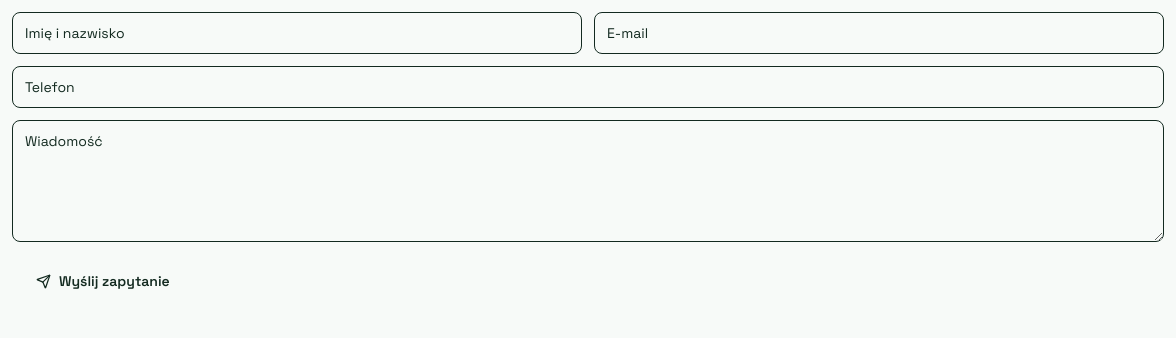
Test: błędy › odpowiedź bez treści degraduje do komunikatu ogólnego
Step 1. Type "Anna Kowalska" into the field labelled "Imię i nazwisko" → (297, 33), box [12,12,582,54]
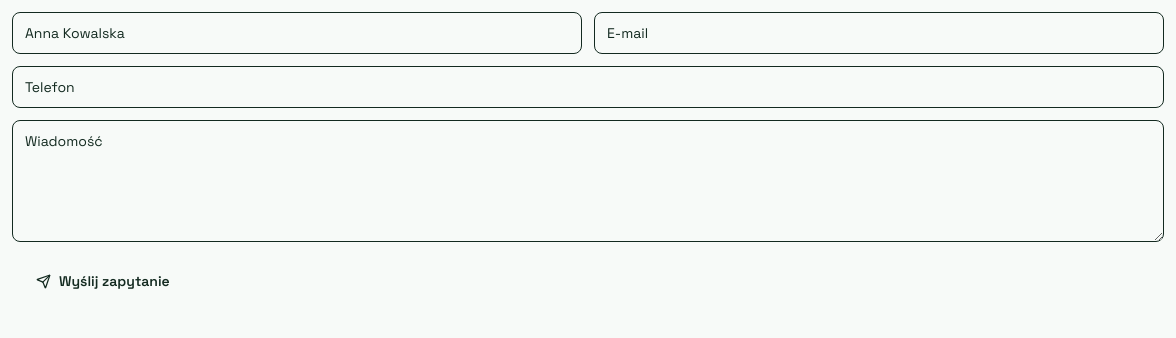
Step 2. Type "anna@example.com" into the field labelled "E-mail" → (879, 33), box [594,12,1164,54]
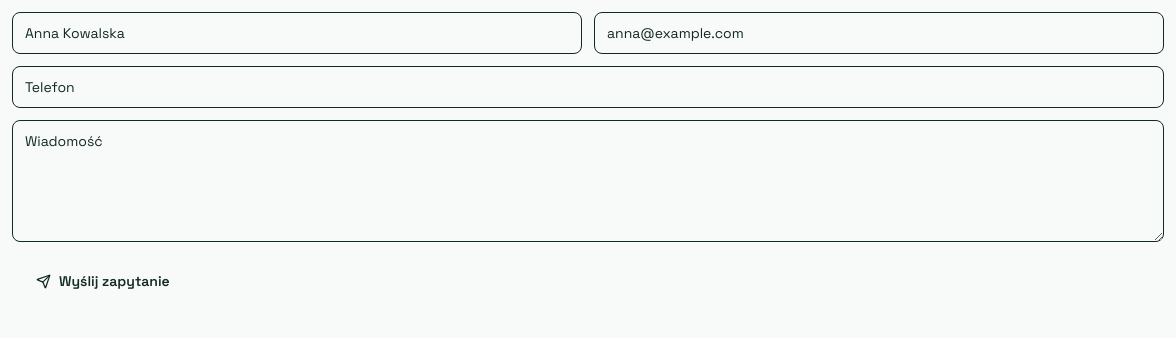
Step 3. Type "Czy jest wolny pokój w sierpniu?" into the text box labelled "Wiadomość" → (588, 181), box [12,120,1164,242]
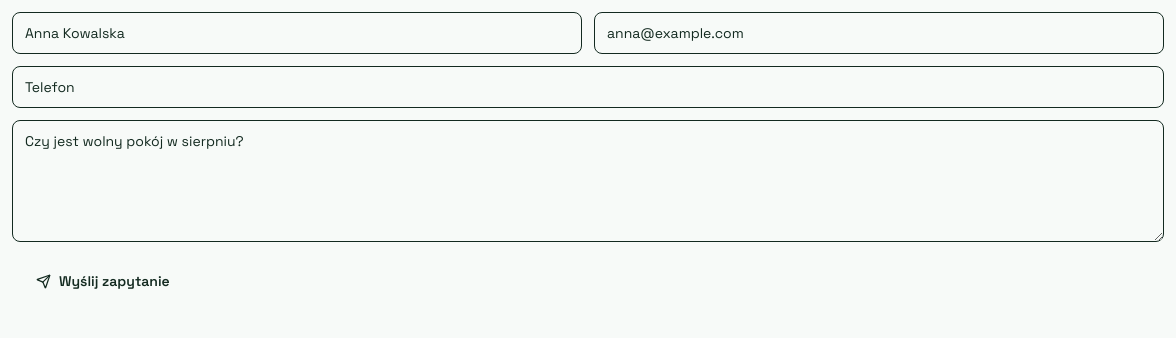
Step 4. Click the button "Wyślij zapytanie" → (103, 281), box [12,261,194,301]
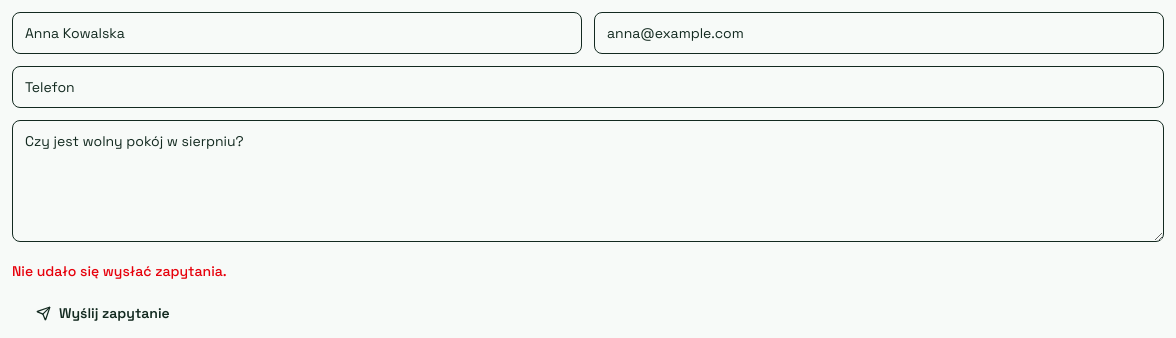
Result: the text "Nie udało się wysłać zapytania." is shown at [12,262,227,280]
